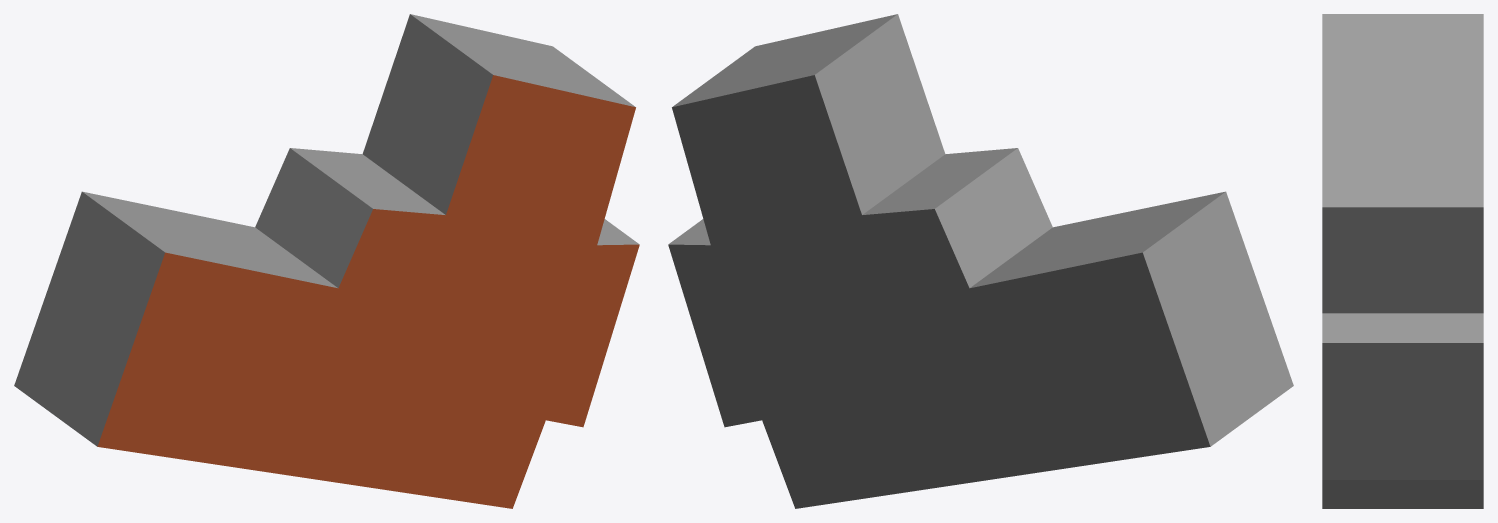
File: construction_4526_assumed_A_Casa_h6m.obj
3 views of the same model, side by side, from view 1: azimuth 30°, elevation 25°; view 2: azimuth 150°, elevation 25°; view 3: azimuth 270°, elevation 25° (orthographic). The views are drawn at different scales.
Visible parts, largest first — view 1: construction_4526_assumed_A_Casa; view 2: construction_4526_assumed_A_Casa; view 3: construction_4526_assumed_A_Casa.
Part boxes in pixels (box(x1,y1,x2,y2)): construction_4526_assumed_A_Casa: box(14, 14, 639, 508); construction_4526_assumed_A_Casa: box(668, 14, 1293, 508); construction_4526_assumed_A_Casa: box(1322, 14, 1483, 508).
Bounding box in the file's own units: 22.55 × 17.43 × 6.
